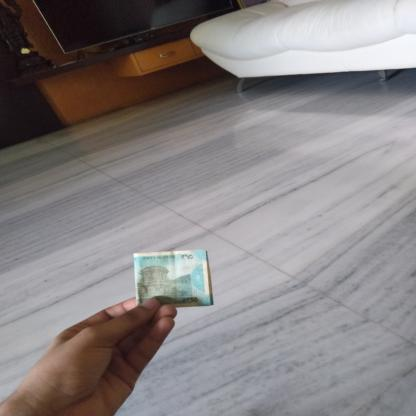New50Back: (137, 254, 207, 306)
